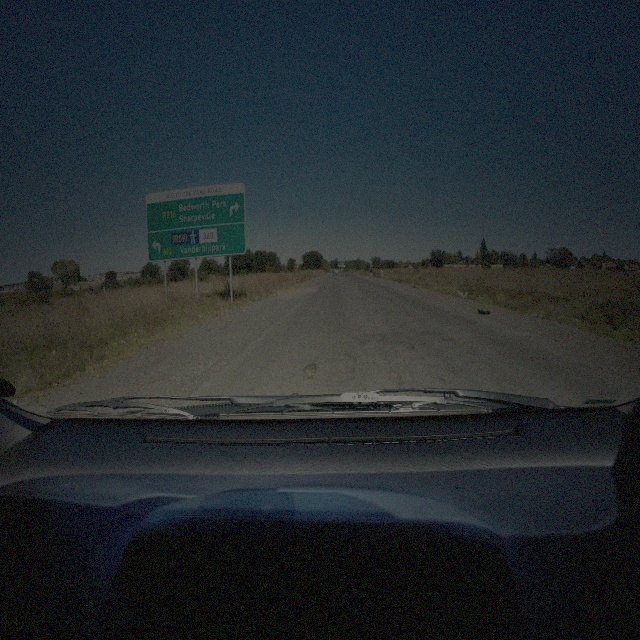pothole: (302, 359, 316, 379)
